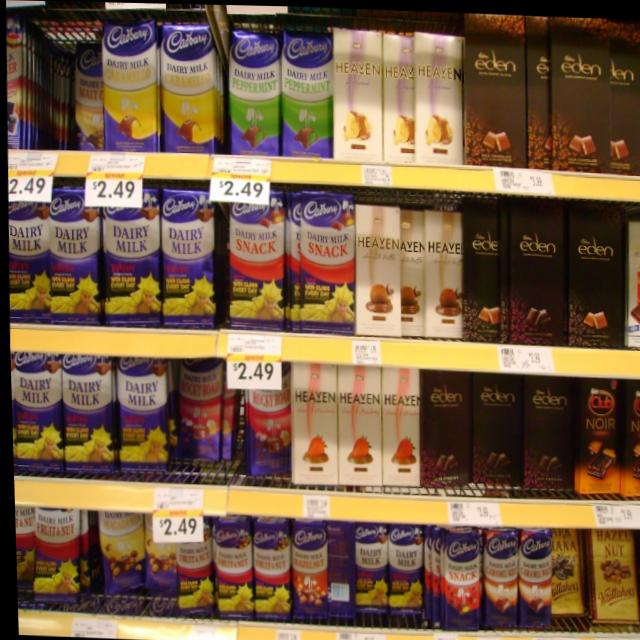q145: (97, 178, 162, 326), (57, 344, 118, 482), (153, 190, 213, 323), (45, 178, 100, 318), (8, 348, 63, 477), (110, 352, 169, 472), (8, 177, 51, 320)
q250: (332, 358, 388, 488), (289, 355, 337, 495), (378, 371, 427, 488)
